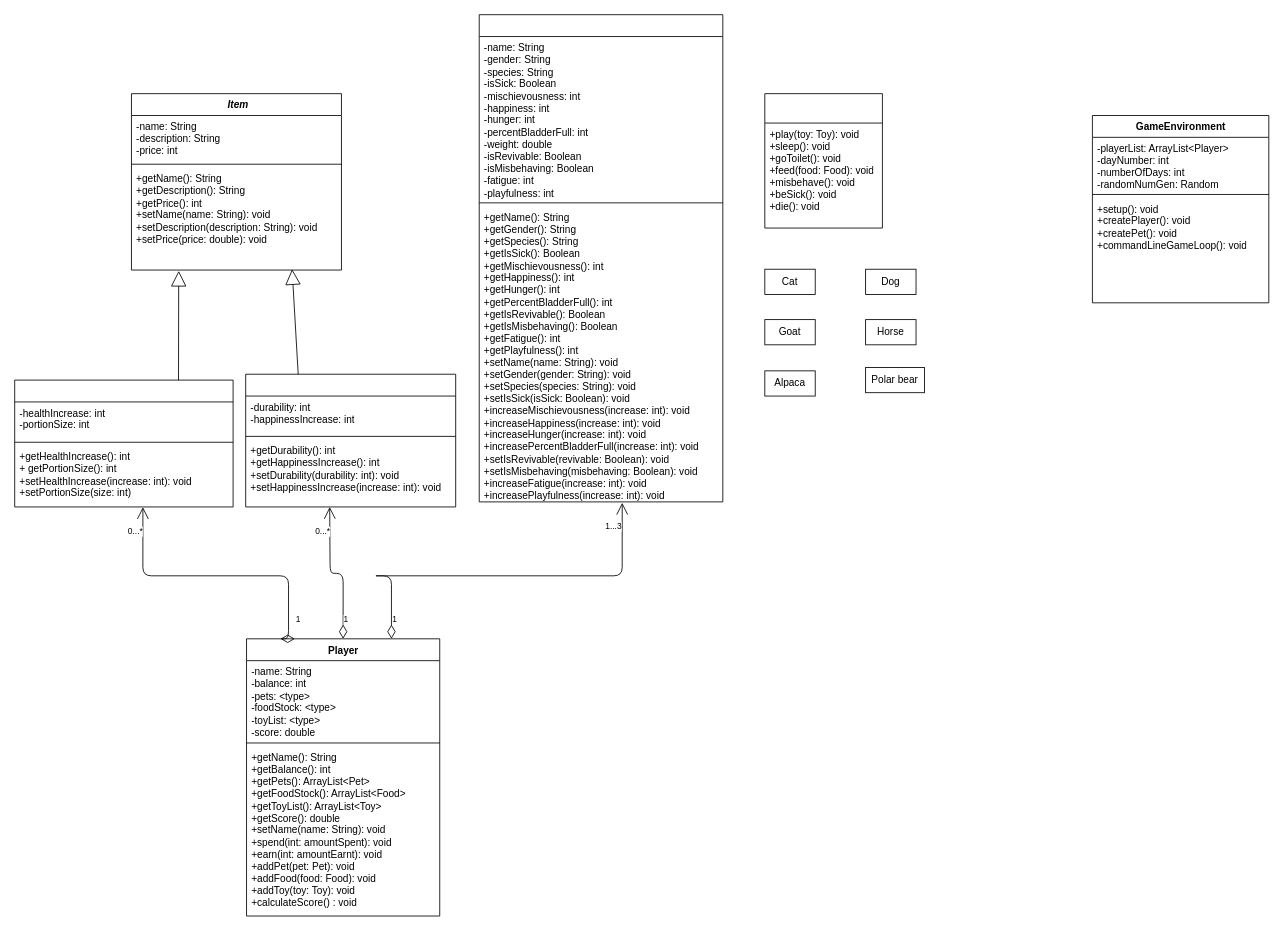
This 1284x933 diagram has some shape labels left out. The box of each missing label's shape, as (x1, y1, x2, y2) in pixels:
<<interface>> Livable: (764, 93, 882, 228)
Food: (14, 379, 233, 507)
Pet: (478, 14, 723, 502)
Toy: (245, 373, 456, 507)
